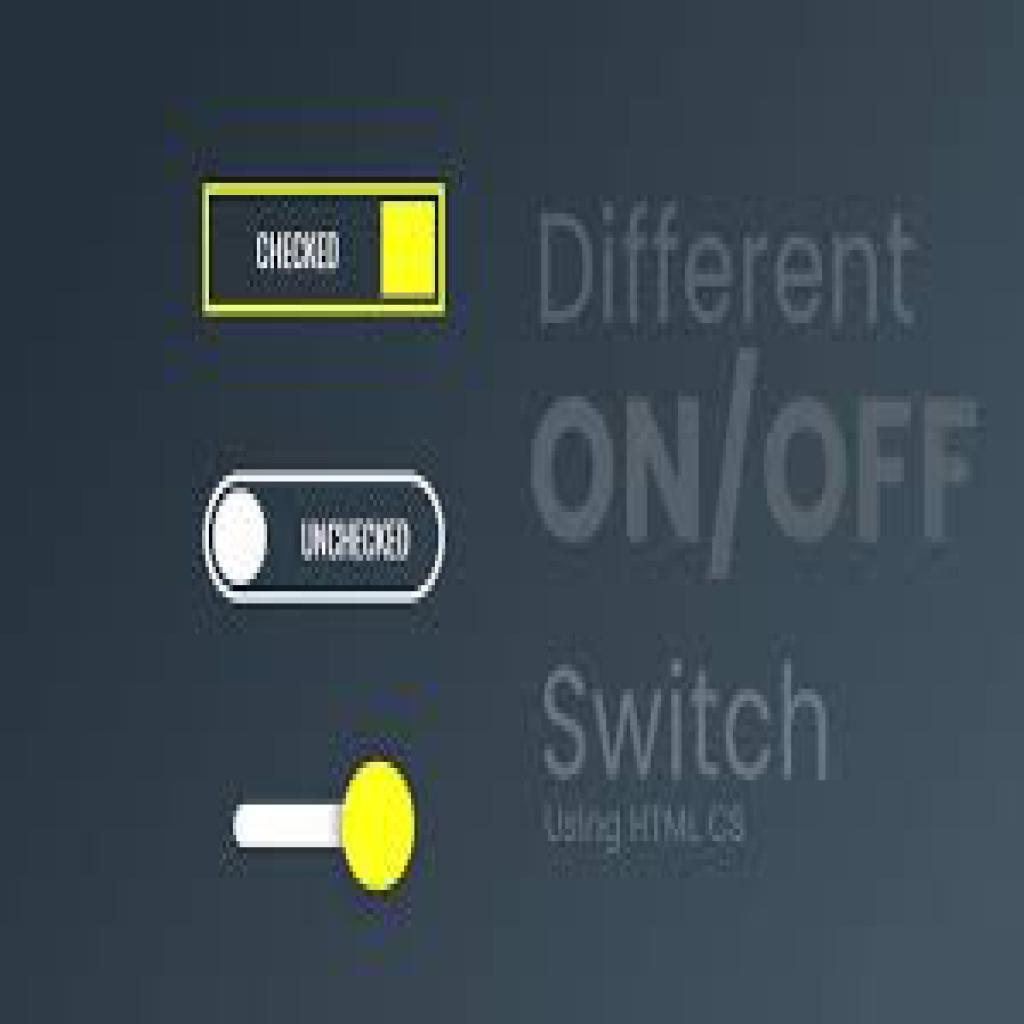slider: (213, 754, 433, 900)
switch: (198, 464, 454, 619)
